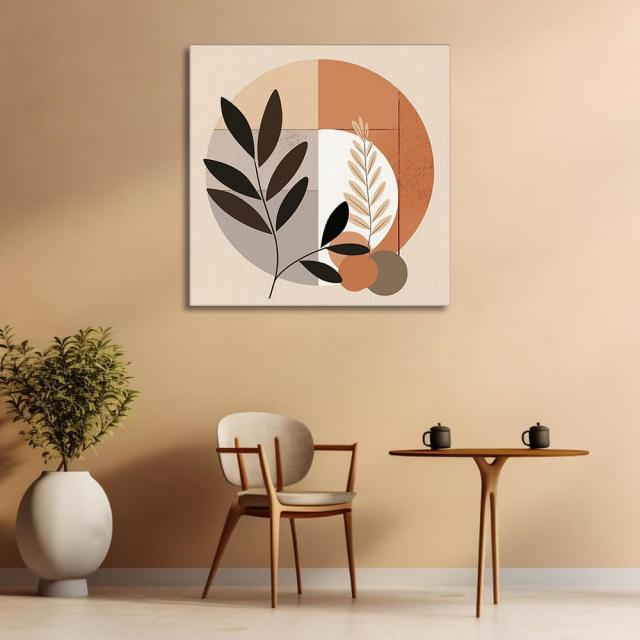painting: (188, 43, 449, 308)
